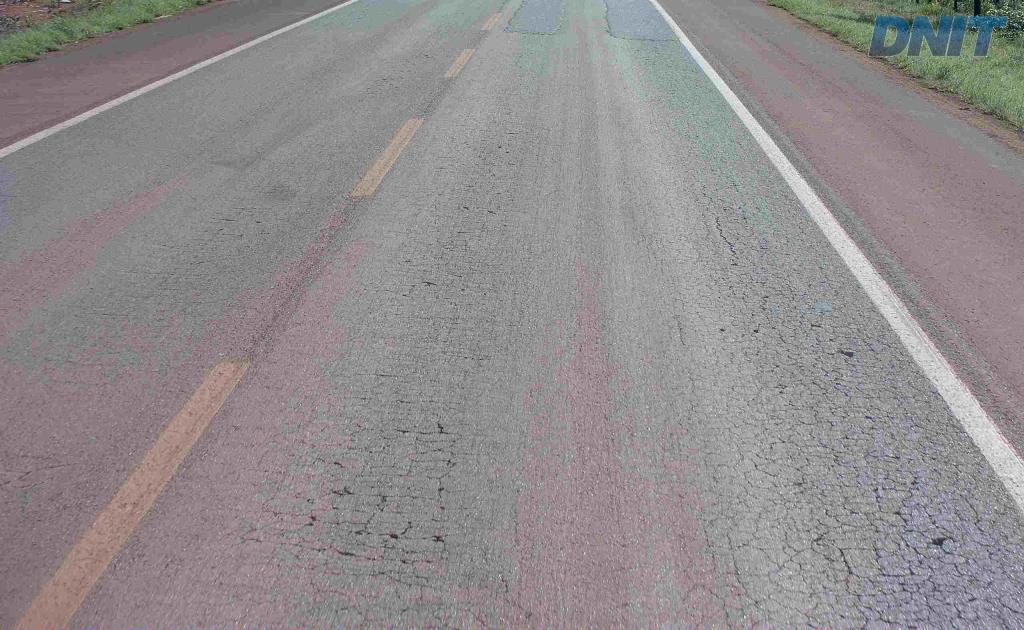crack: (328, 471, 392, 560)
